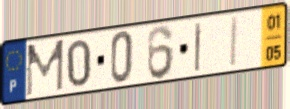0: (109, 29, 138, 86), (64, 38, 94, 89)
6: (146, 23, 176, 82)
I: (229, 15, 240, 70), (193, 20, 204, 74)
M: (24, 37, 66, 99)
